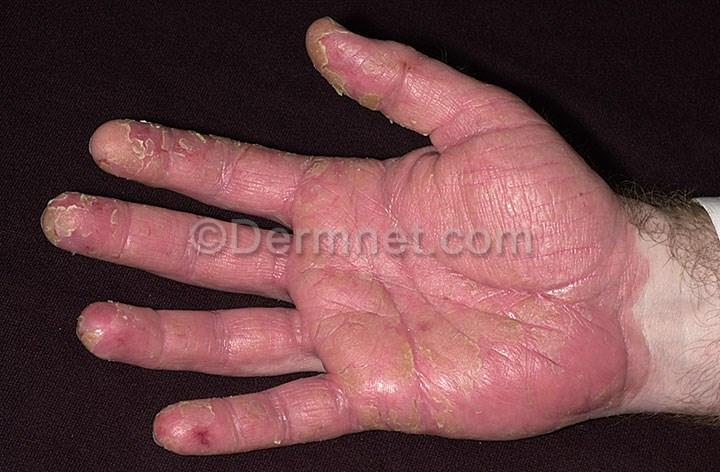Eczema: (356, 361, 447, 427), (231, 224, 329, 283), (306, 258, 378, 329), (513, 291, 585, 360), (288, 325, 388, 371), (176, 323, 267, 370), (218, 247, 294, 302), (338, 243, 414, 298), (323, 192, 392, 250), (254, 151, 349, 193), (423, 195, 499, 245), (436, 313, 495, 377), (587, 223, 644, 288), (393, 217, 434, 306), (564, 173, 625, 228), (594, 295, 643, 363), (69, 225, 151, 264), (448, 390, 515, 437), (214, 390, 281, 437), (523, 237, 577, 292), (133, 310, 211, 348), (447, 255, 507, 304), (521, 116, 573, 170), (354, 48, 418, 90), (357, 156, 442, 187), (524, 368, 575, 418), (241, 312, 299, 355), (380, 285, 418, 348), (420, 64, 465, 117), (475, 94, 520, 147), (481, 155, 531, 201), (579, 364, 623, 415), (526, 170, 566, 225), (208, 142, 248, 195), (310, 40, 358, 83), (277, 381, 322, 426), (396, 325, 448, 363), (113, 128, 161, 168), (92, 308, 137, 350), (164, 158, 211, 198), (253, 193, 317, 222), (158, 250, 218, 280), (316, 374, 359, 414), (153, 130, 211, 159), (439, 117, 481, 157), (396, 182, 469, 205), (124, 201, 176, 233), (63, 196, 116, 226), (174, 432, 236, 455), (165, 407, 214, 436), (108, 341, 158, 364), (361, 86, 404, 111), (164, 232, 215, 253), (402, 105, 437, 135), (318, 22, 357, 48), (116, 167, 165, 185), (153, 342, 186, 368), (314, 408, 350, 430), (39, 210, 63, 242), (89, 132, 112, 162), (490, 366, 515, 388), (250, 431, 288, 444)
